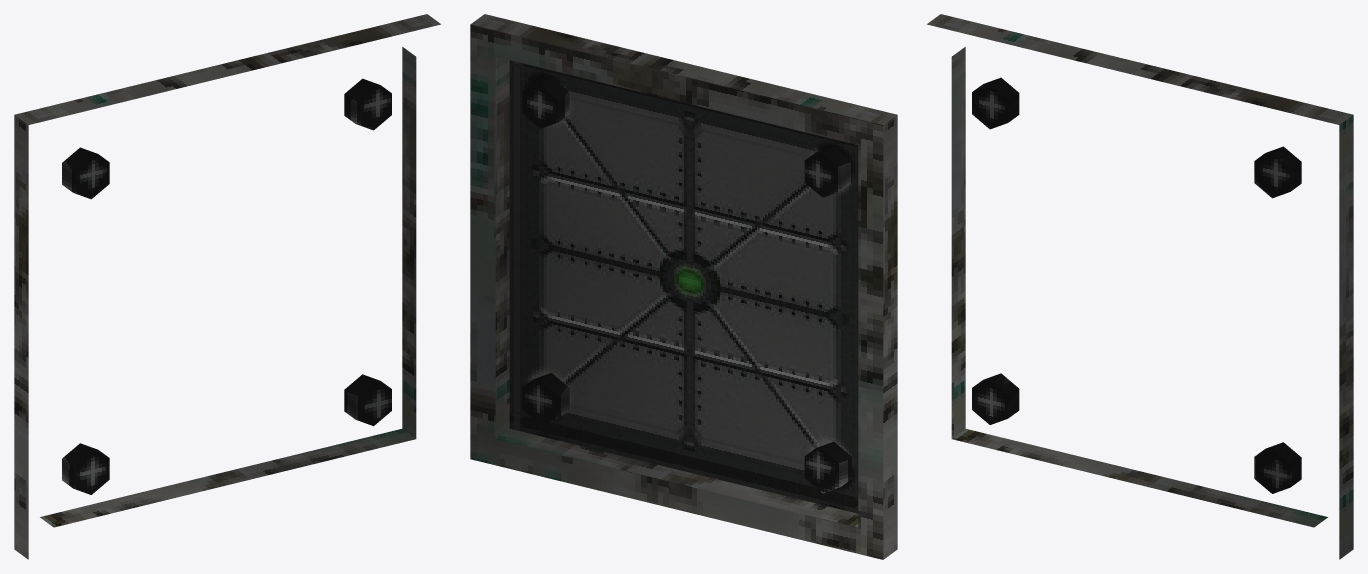
File: panel.glb
The picture shows the model from 3 angles, left to right: view 1: azimuth 30°, elevation 25°; view 2: azimuth 150°, elevation 25°; view 3: azimuth 330°, elevation 25°; orthographic projection.
Visible parts, largest first — view 1: Cube.001; view 2: Cube.001; view 3: Cube.001.
Boxes of the visible parts, box(x1,y1,x2,y2) form: Cube.001: box(14, 14, 440, 559); Cube.001: box(470, 14, 897, 559); Cube.001: box(927, 14, 1353, 559).
Size of the model in its own units: 1.28 by 1.29 by 0.0767.
2 materials, 2 textured.
